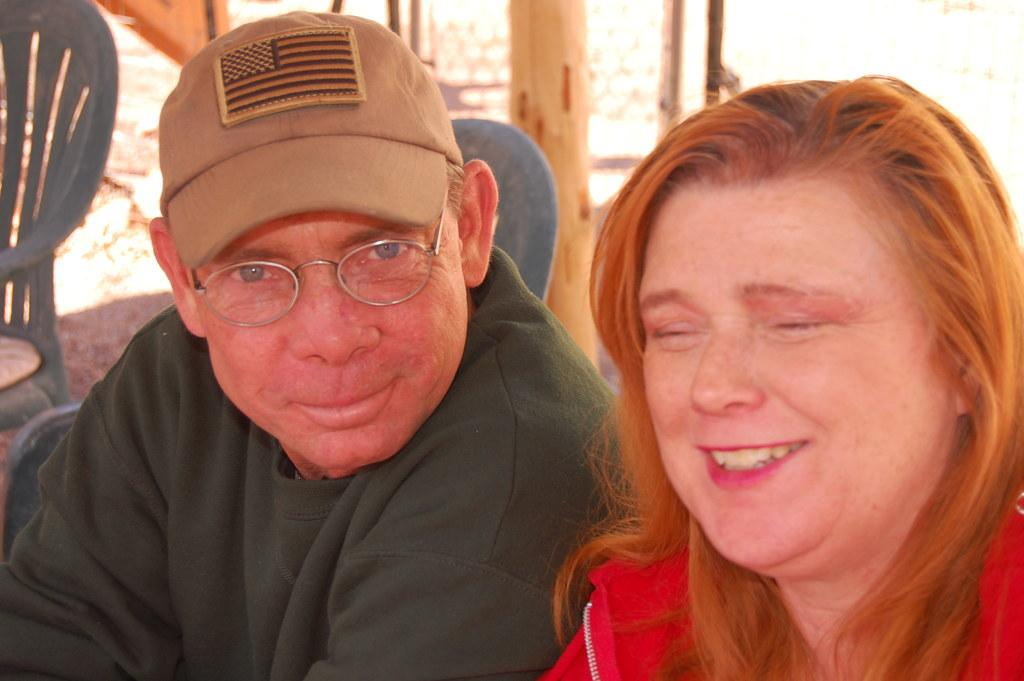Hat: (160, 9, 462, 269)
